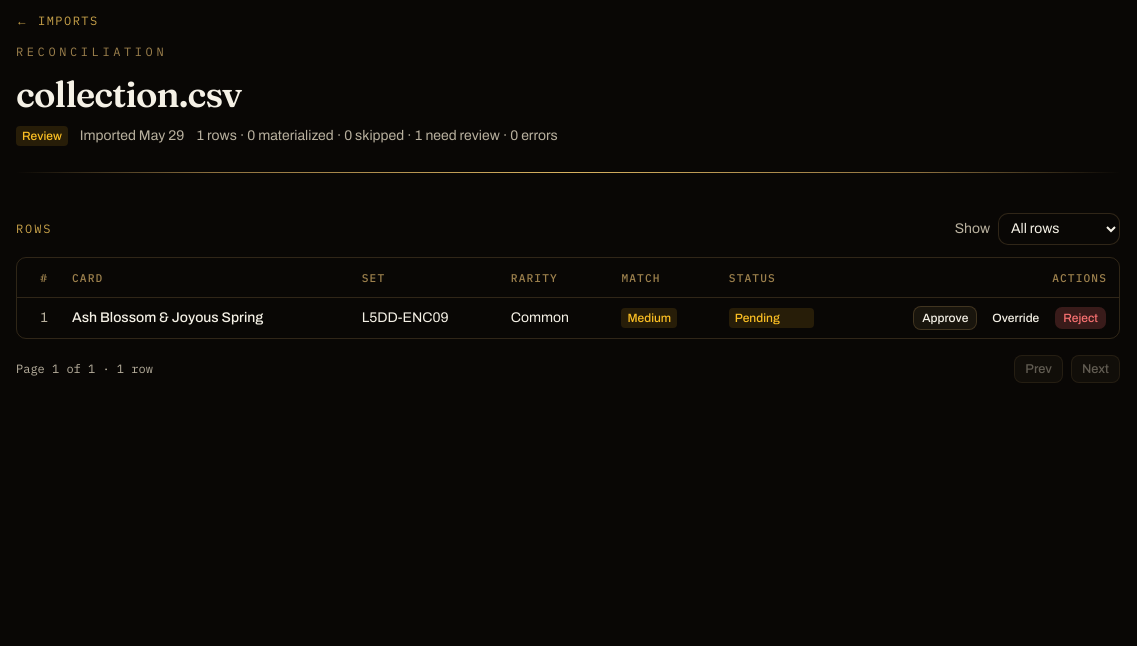
Test: ImportBatchDetail › opens the override picker and can cancel it
Expected: the text "Ash Blossom & Joyous Spring" is shown, x1=72 y1=308 x2=263 y2=328
Click the button "Override": [1016, 318] box x1=983 y1=306 x2=1048 y2=330
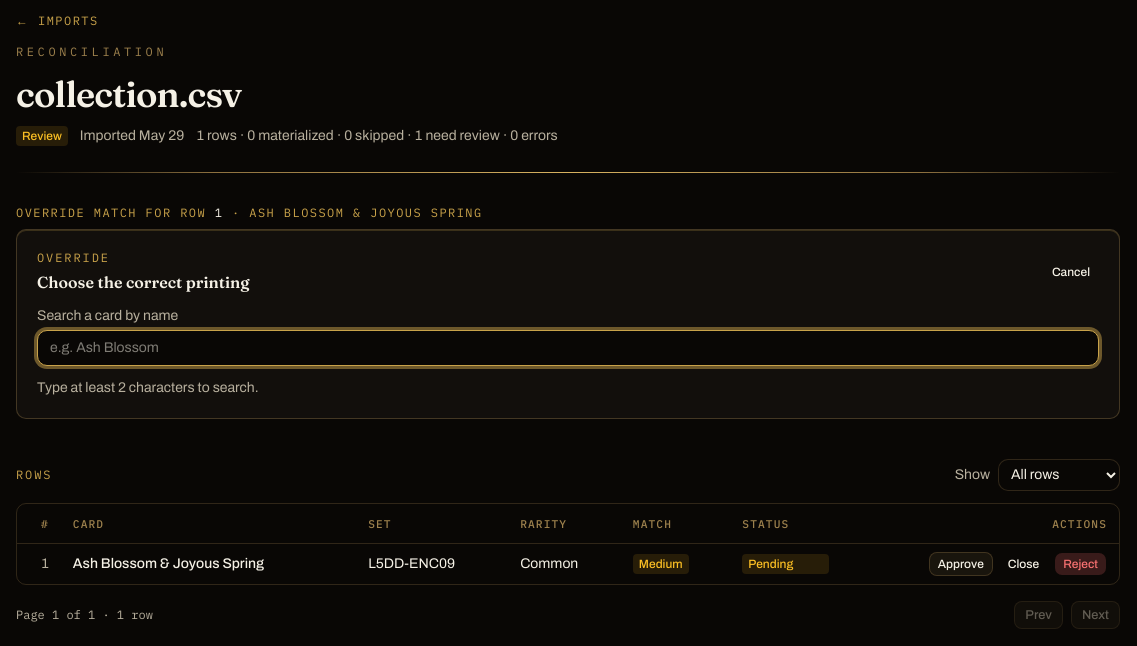
Expected: the heading "Choose the correct printing" is shown, x1=37 y1=270 x2=250 y2=294
Click the button "Cancel": [1071, 272] box x1=1043 y1=260 x2=1099 y2=284
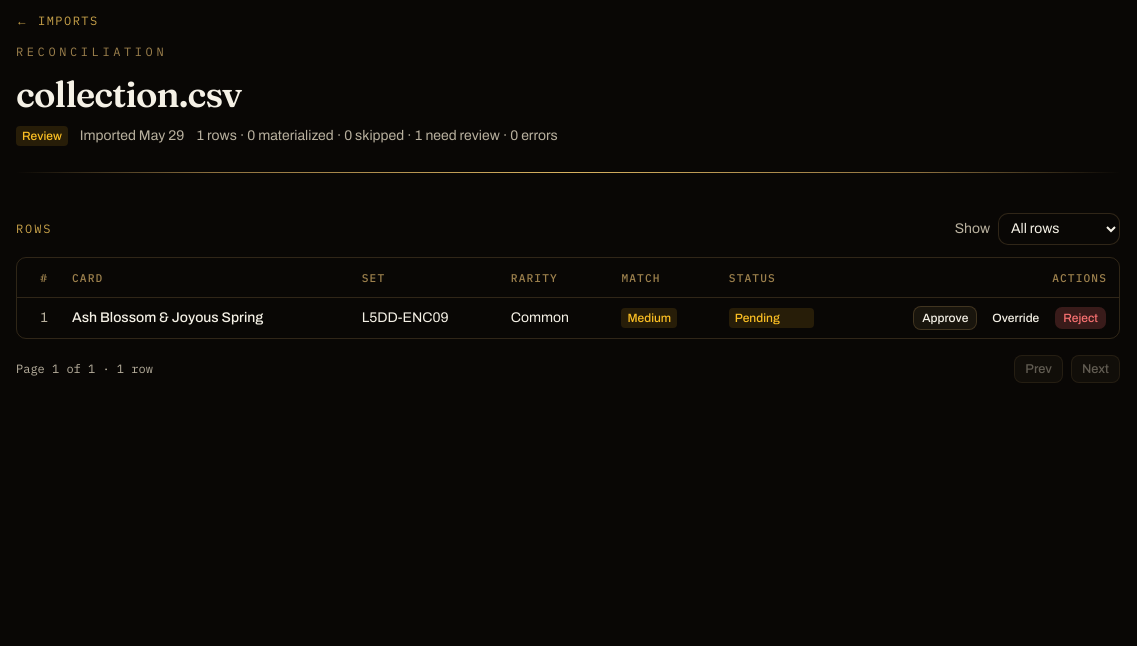
Expected: the heading "Choose the correct printing" is gone
